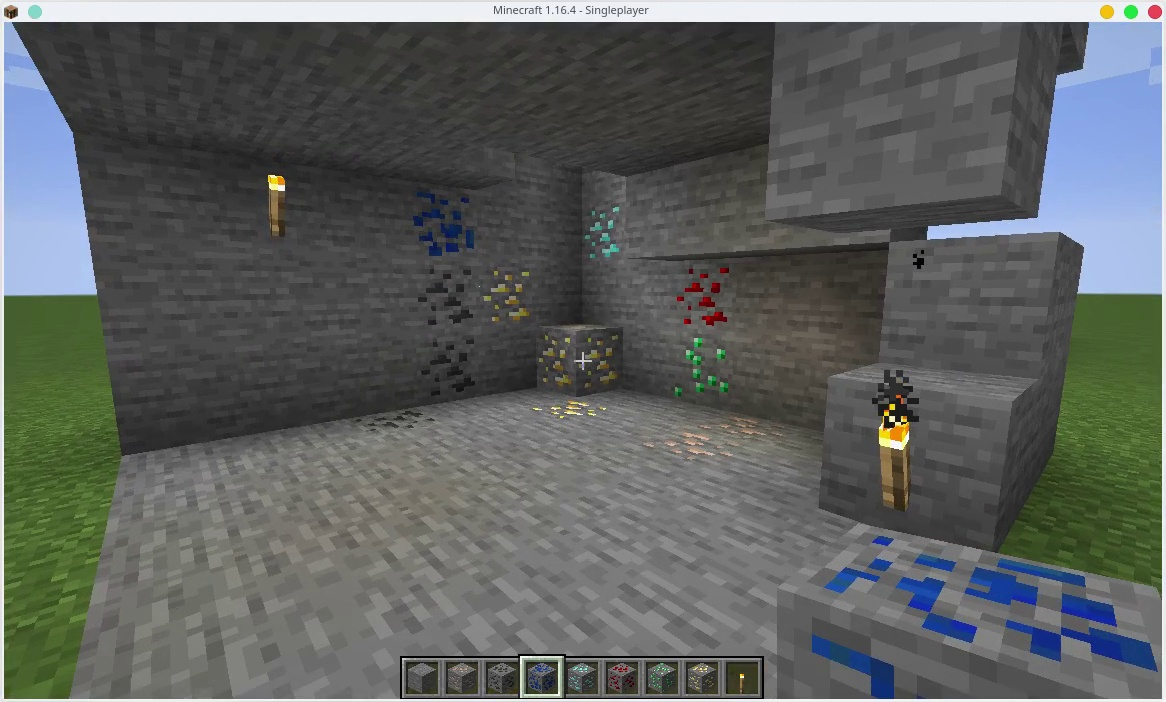gold: (537, 327, 622, 389), (479, 267, 531, 326), (537, 397, 612, 419), (686, 658, 717, 691)
